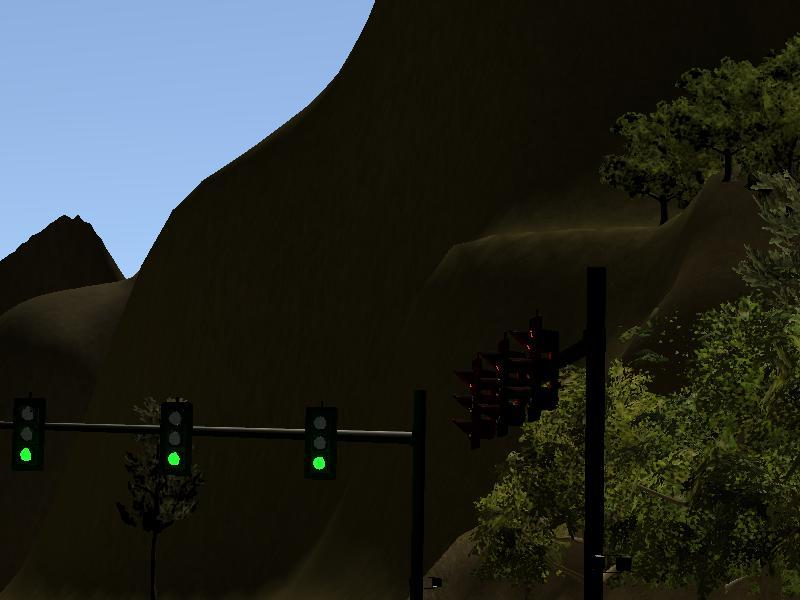Green: (306, 401, 336, 483), (12, 393, 41, 474), (159, 399, 188, 478)
